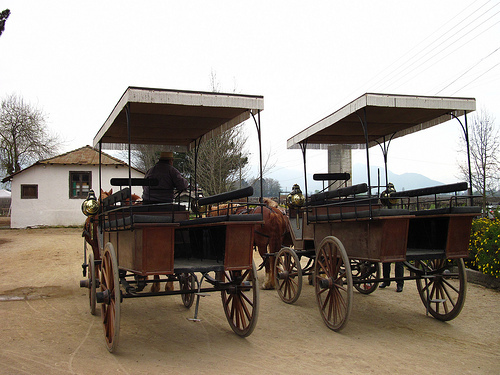horse: (202, 196, 292, 289)
